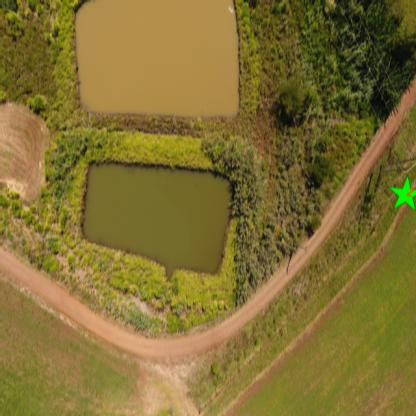Z: (405, 184, 415, 202)
star: (388, 174, 416, 214)
